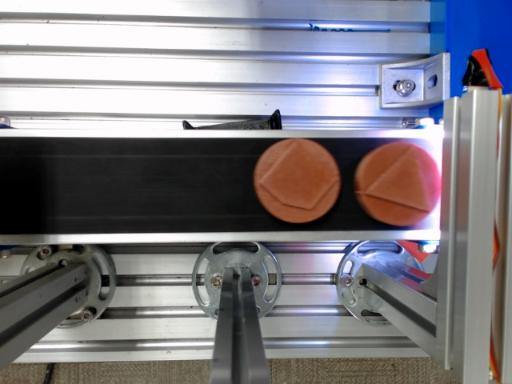Brown_Waper: (354, 142, 440, 226), (254, 139, 341, 222)
